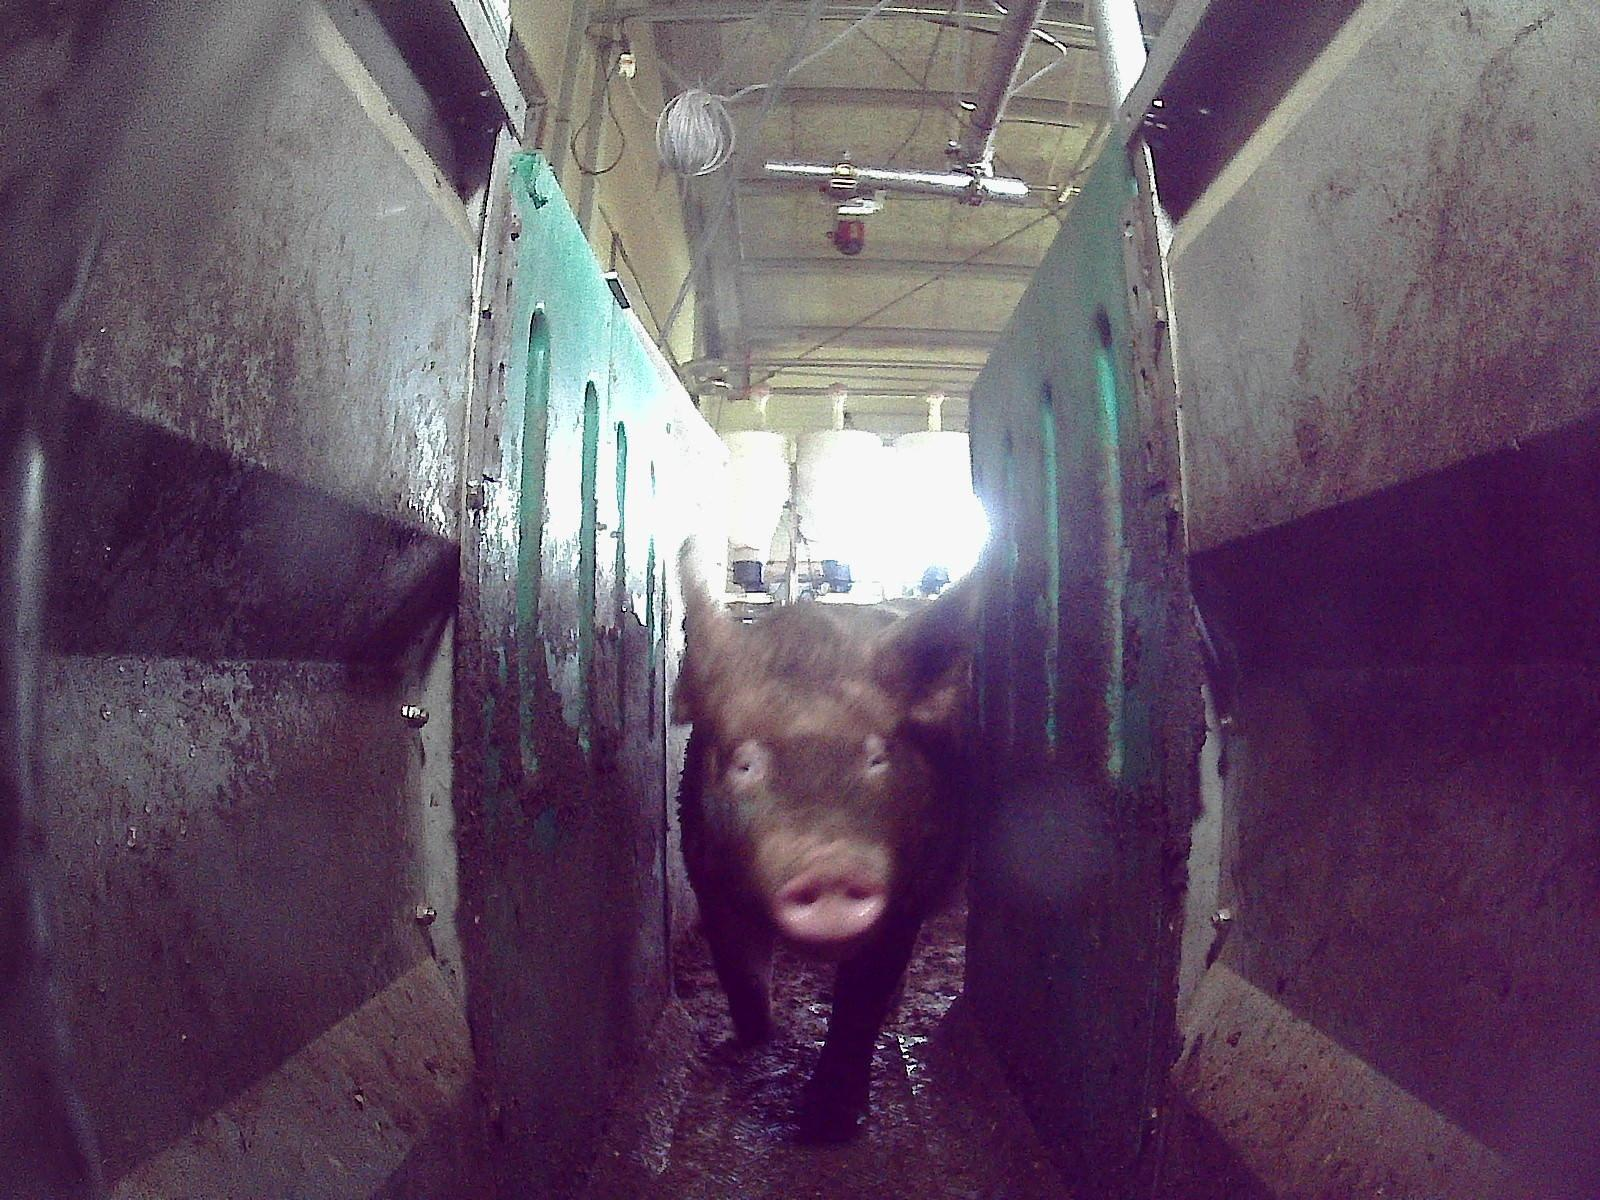Face: (711, 637, 916, 941)
